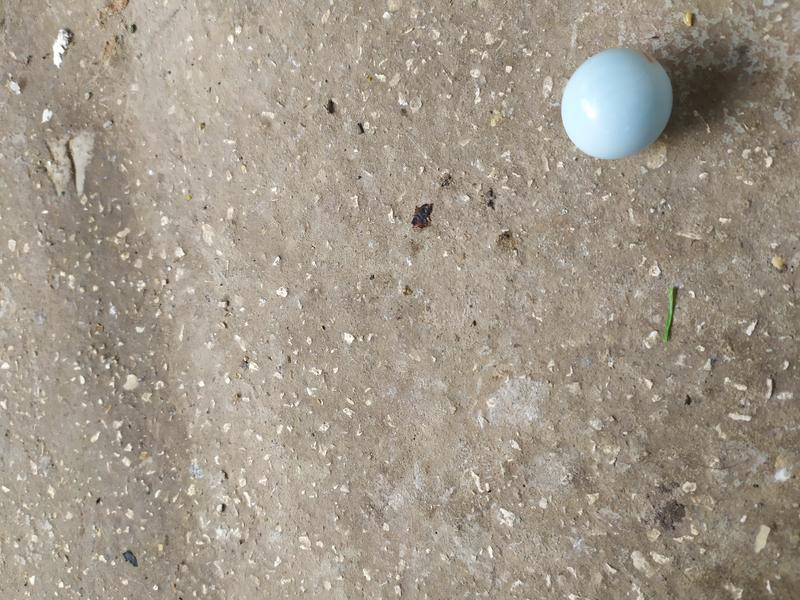Warning: (557, 43, 678, 163)
